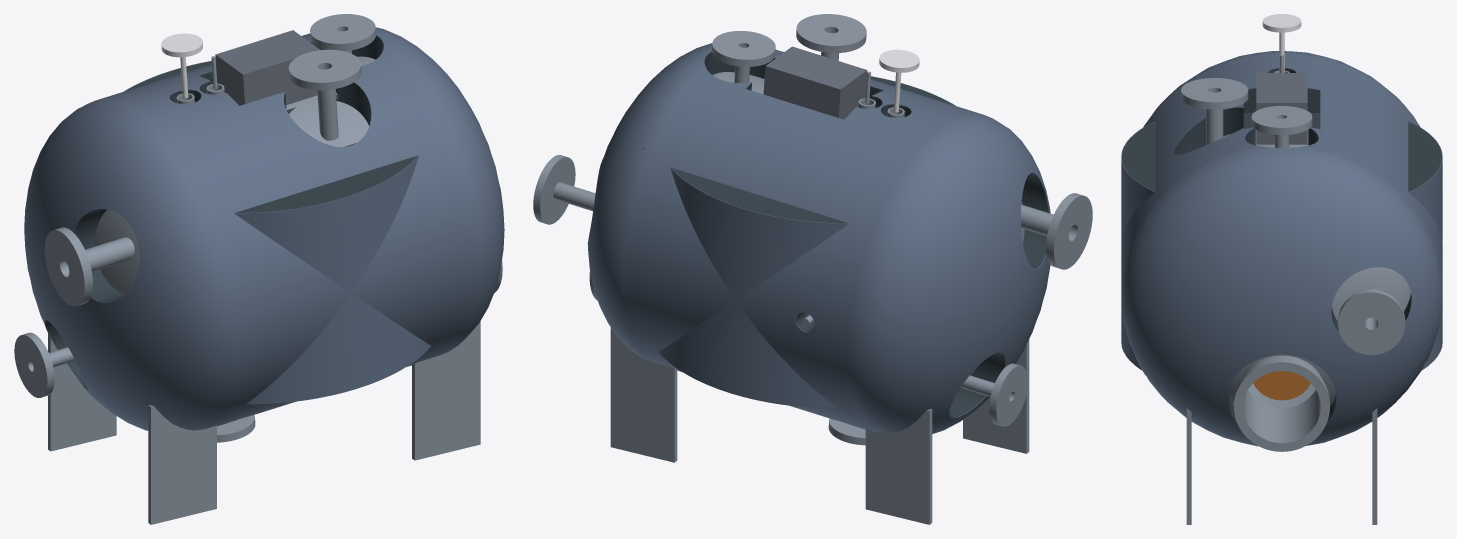
File: spt_korpus.glb
3 renders of one model, left to right at view 1: azimuth 30°, elevation 25°; view 2: azimuth 150°, elevation 25°; view 3: azimuth 270°, elevation 25°, orthographic. The views are drawn at different scales.
Visible parts, largest first — view 1: spt_korpus (×5); view 2: spt_korpus (×5); view 3: spt_korpus (×6).
Boxes of the visible parts, box(x1,y1,x2,y2) form: spt_korpus (×5): box(14, 14, 504, 524); spt_korpus (×5): box(533, 14, 1092, 524); spt_korpus (×6): box(1121, 14, 1442, 524).
Size of the model in its own units: 0.776 by 0.6782 by 0.502.
